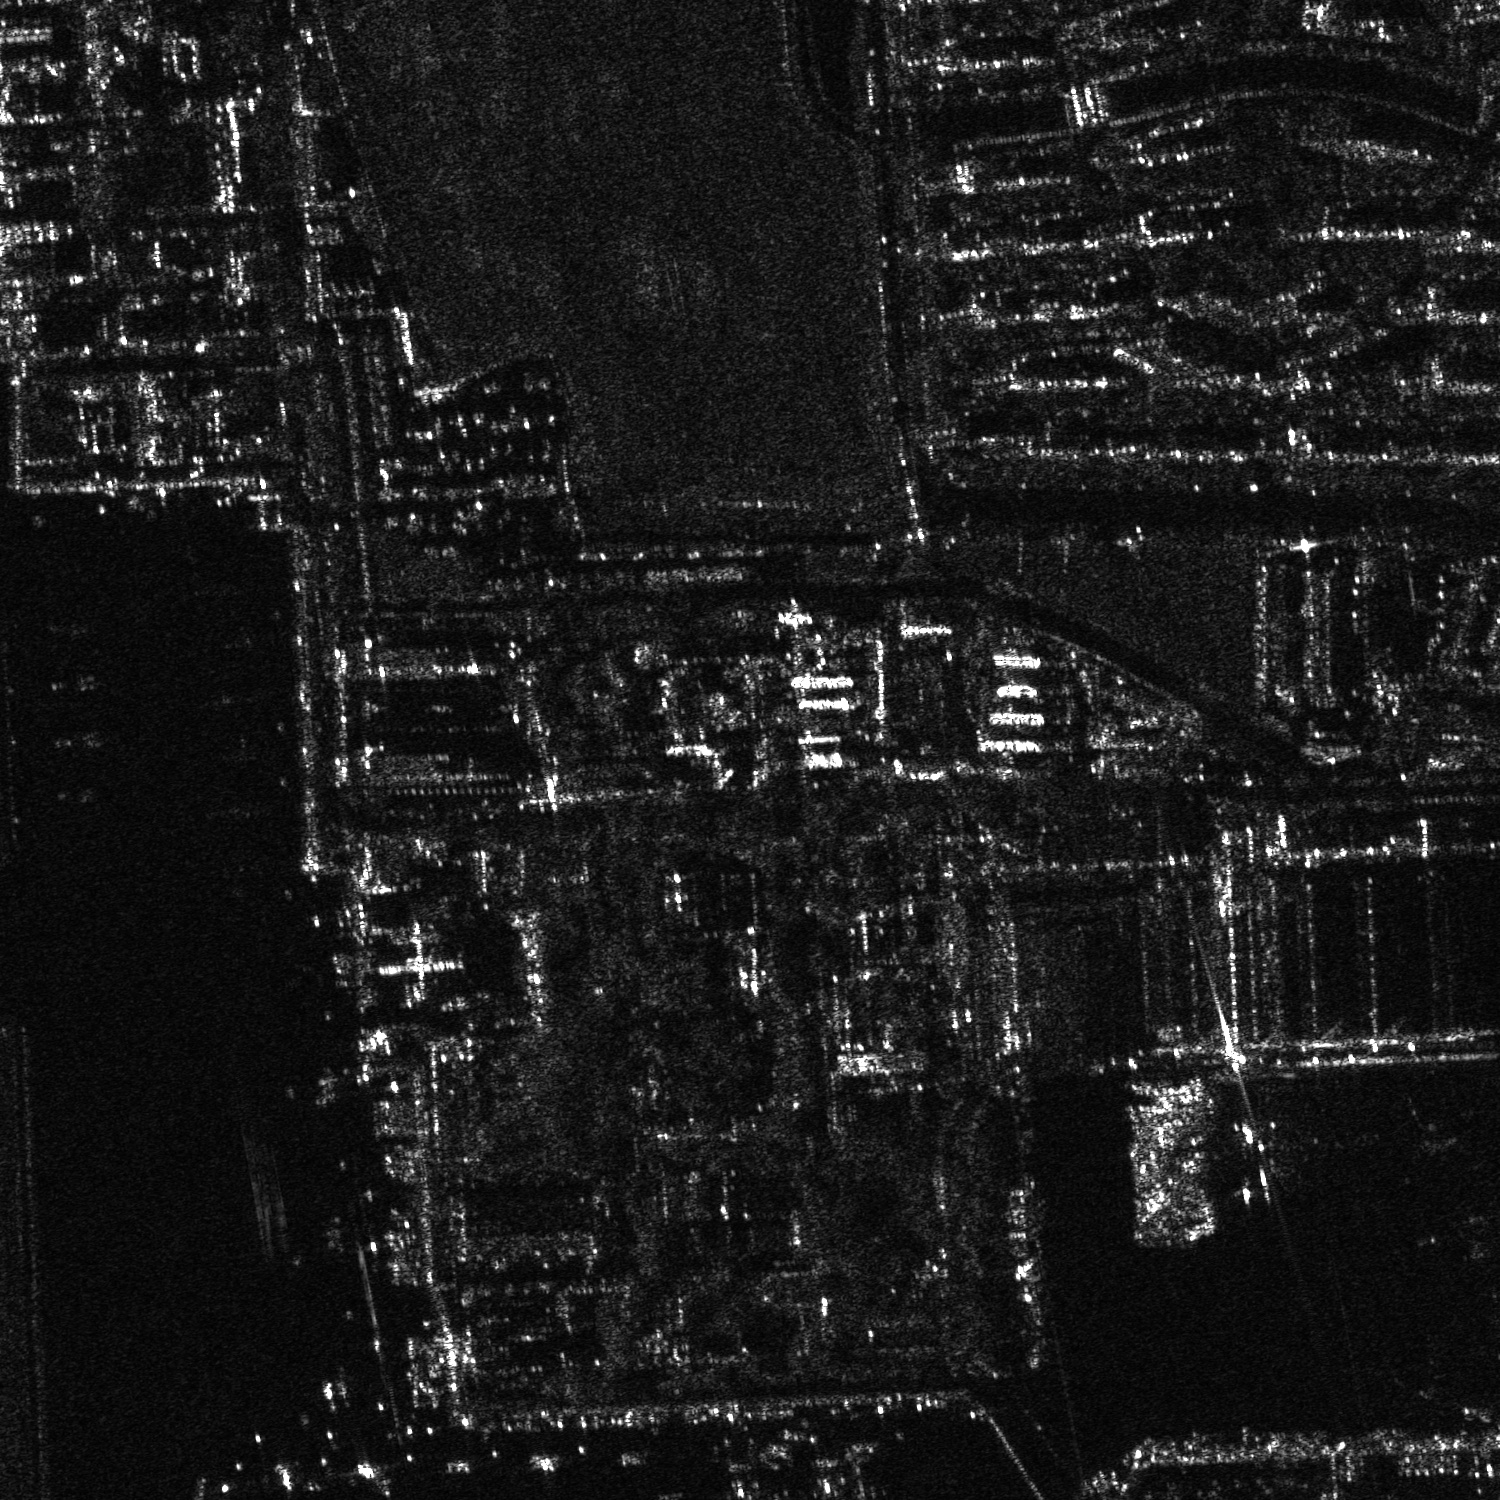ARJ21: (45, 723, 113, 762), (52, 777, 106, 808)
Boeing737: (1212, 1114, 1301, 1207), (799, 1453, 852, 1499)
other: (45, 663, 103, 707)
